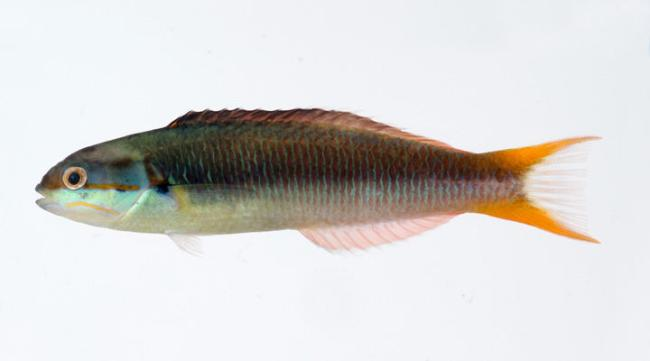fish: (34, 107, 606, 257)
